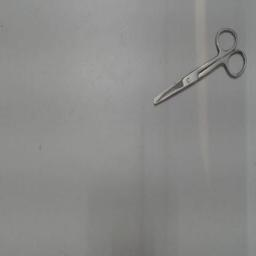Dressing Scissors: (146, 21, 252, 115)
